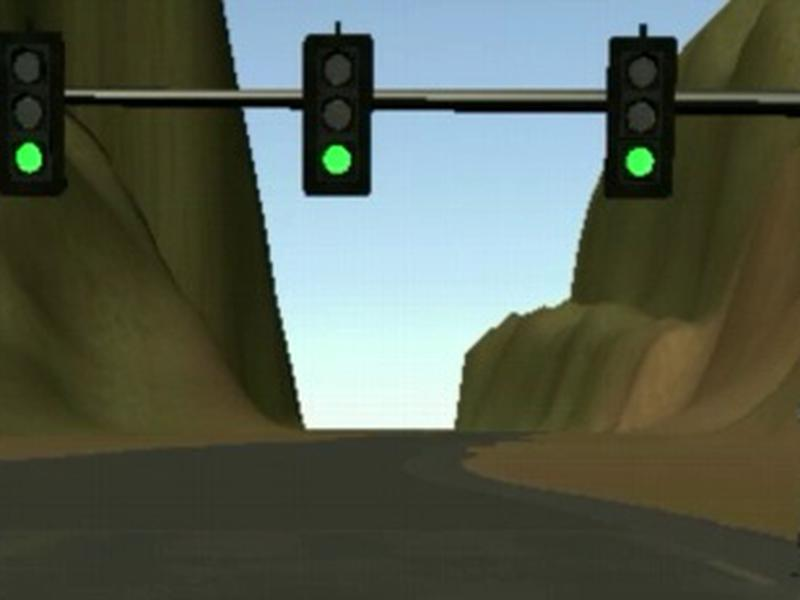Green: (606, 36, 679, 200), (302, 34, 373, 197), (1, 32, 69, 198)
